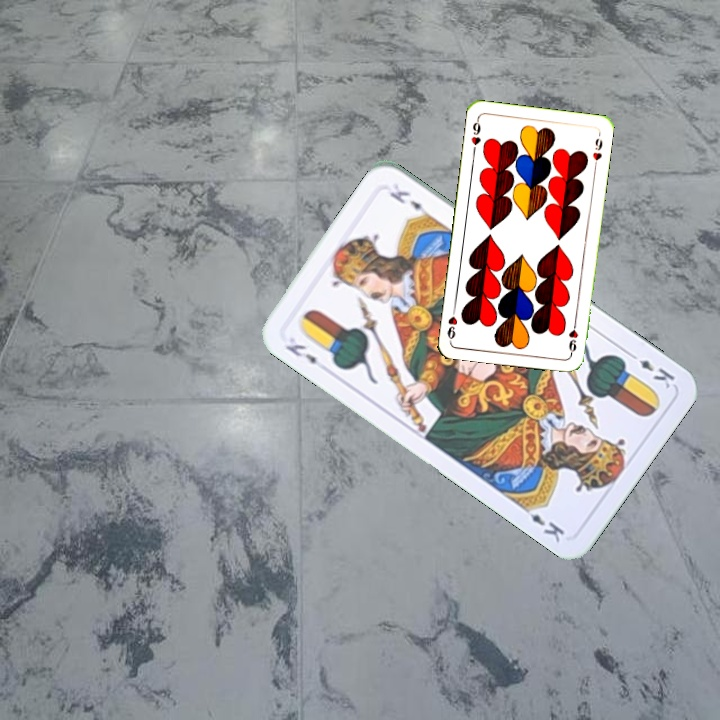EK: (624, 348, 678, 391), (281, 339, 329, 374)
H9: (467, 115, 483, 155), (565, 317, 581, 357)
